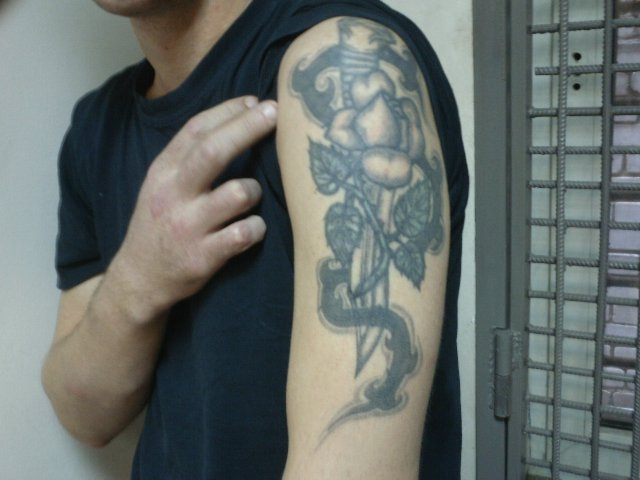tatu7_zmeya: (300, 30, 429, 426)
